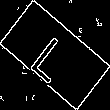L_NE: (29, 26, 81, 84)
